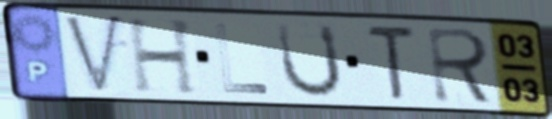H: (123, 16, 202, 97)
L: (212, 21, 272, 96)
R: (424, 25, 498, 107)
T: (364, 22, 420, 103)
U: (274, 20, 346, 100)
V: (60, 11, 127, 98)
